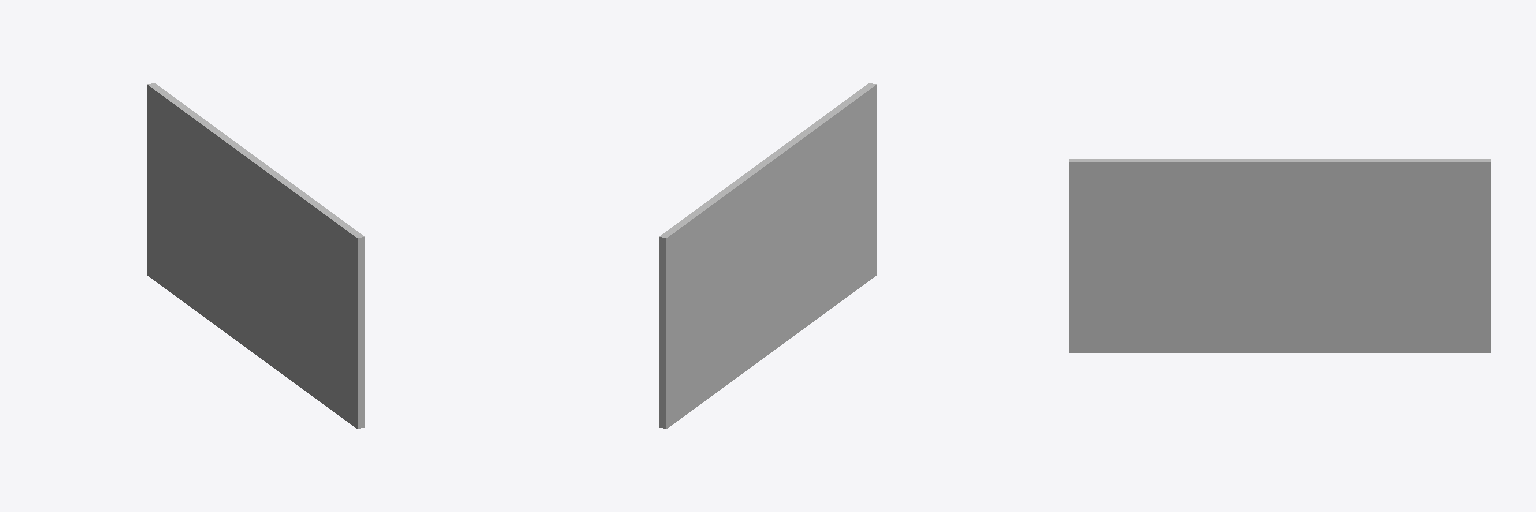
The model's file is wall1.obj.
3 views of the same model, side by side, from view 1: azimuth 30°, elevation 25°; view 2: azimuth 150°, elevation 25°; view 3: azimuth 270°, elevation 25° (orthographic).
Bounding box in the file's own units: 1 × 25 × 50.